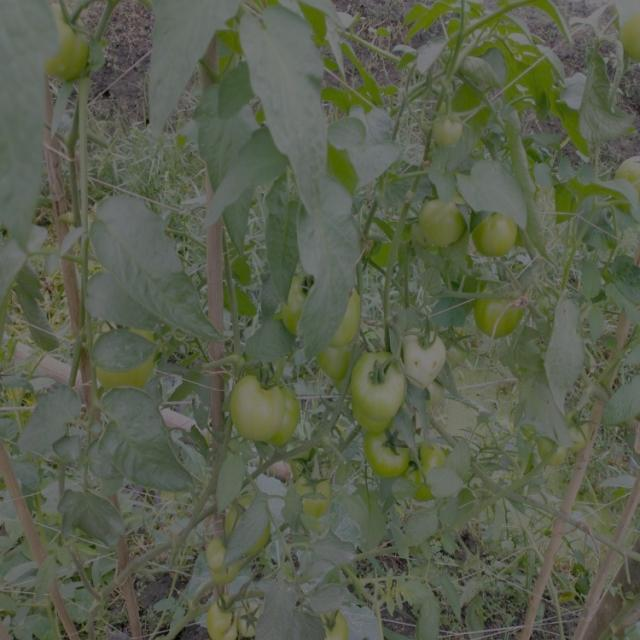tomato: (285, 276, 355, 336), (231, 379, 285, 449), (46, 24, 95, 85), (108, 337, 159, 393), (225, 494, 271, 556), (479, 290, 528, 343), (359, 348, 398, 413), (422, 206, 466, 253), (406, 331, 442, 388), (412, 442, 446, 500), (367, 439, 413, 480), (483, 210, 517, 263), (200, 548, 241, 585), (317, 342, 354, 382), (205, 604, 243, 640), (285, 387, 308, 446), (441, 335, 477, 371), (293, 481, 329, 517), (322, 605, 352, 640), (364, 410, 398, 436), (618, 152, 640, 192), (619, 15, 640, 55), (435, 117, 462, 145), (246, 605, 268, 639)
